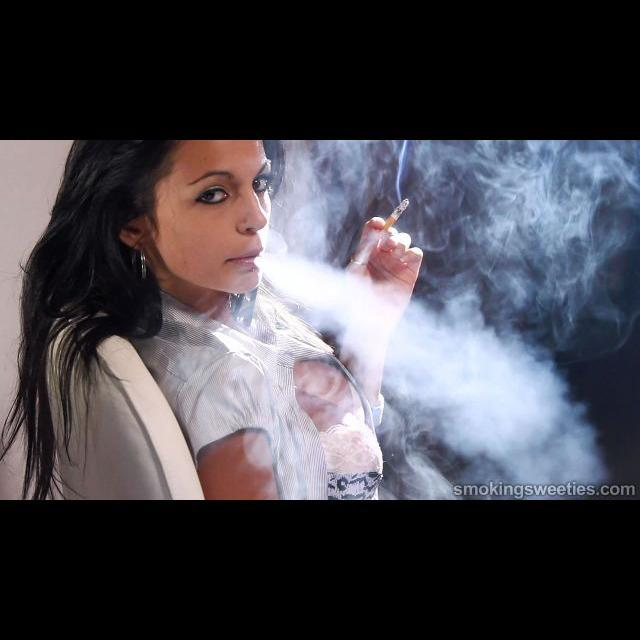rokok: (384, 192, 414, 225)
